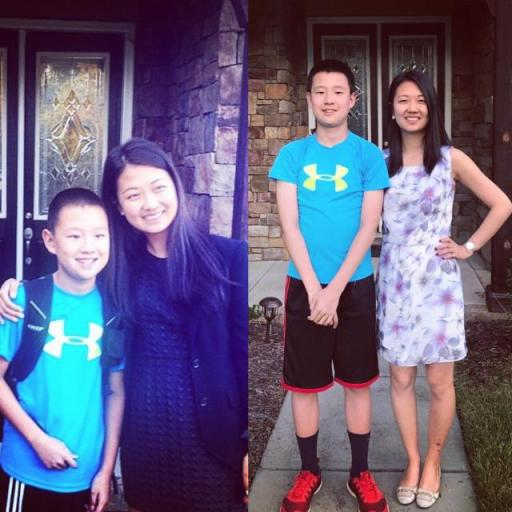Under Armour: (40, 315, 106, 366), (296, 156, 352, 196)
